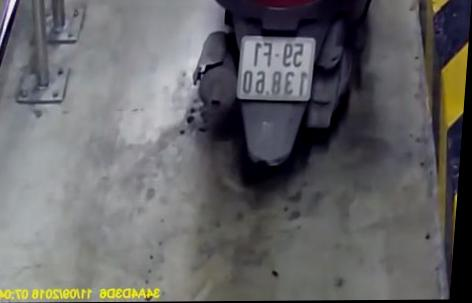License_Plate: (217, 29, 330, 112)
